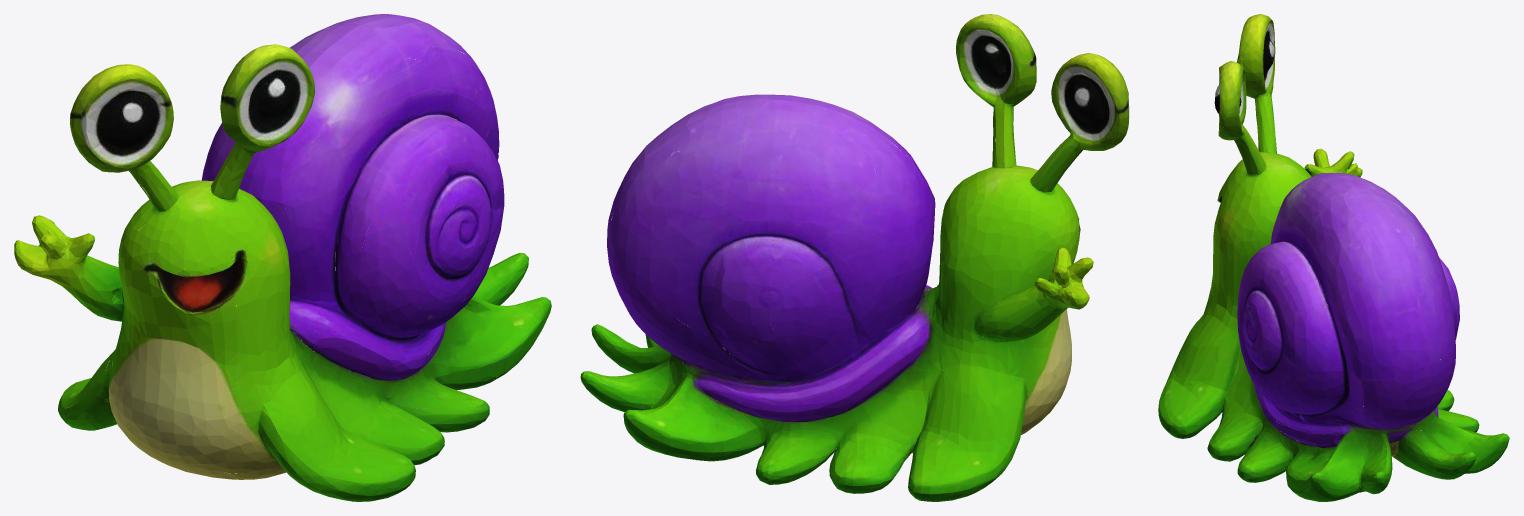
The model's file is char-Shelby.glb.
3 renders of one model, left to right at view 1: azimuth 30°, elevation 25°; view 2: azimuth 150°, elevation 25°; view 3: azimuth 270°, elevation 25°, orthographic. The views are drawn at different scales.
Parts seen in each view (by area): view 1: geometry_0.024; view 2: geometry_0.024; view 3: geometry_0.024.
Boxes of the visible parts, x1,y1,x2,y2 form: geometry_0.024: (14, 14, 551, 501); geometry_0.024: (580, 14, 1129, 501); geometry_0.024: (1158, 14, 1509, 501).
Bounding box in the file's own units: 0.9954 × 0.7984 × 0.7448.
Materials: 1 (1 with a texture image).
